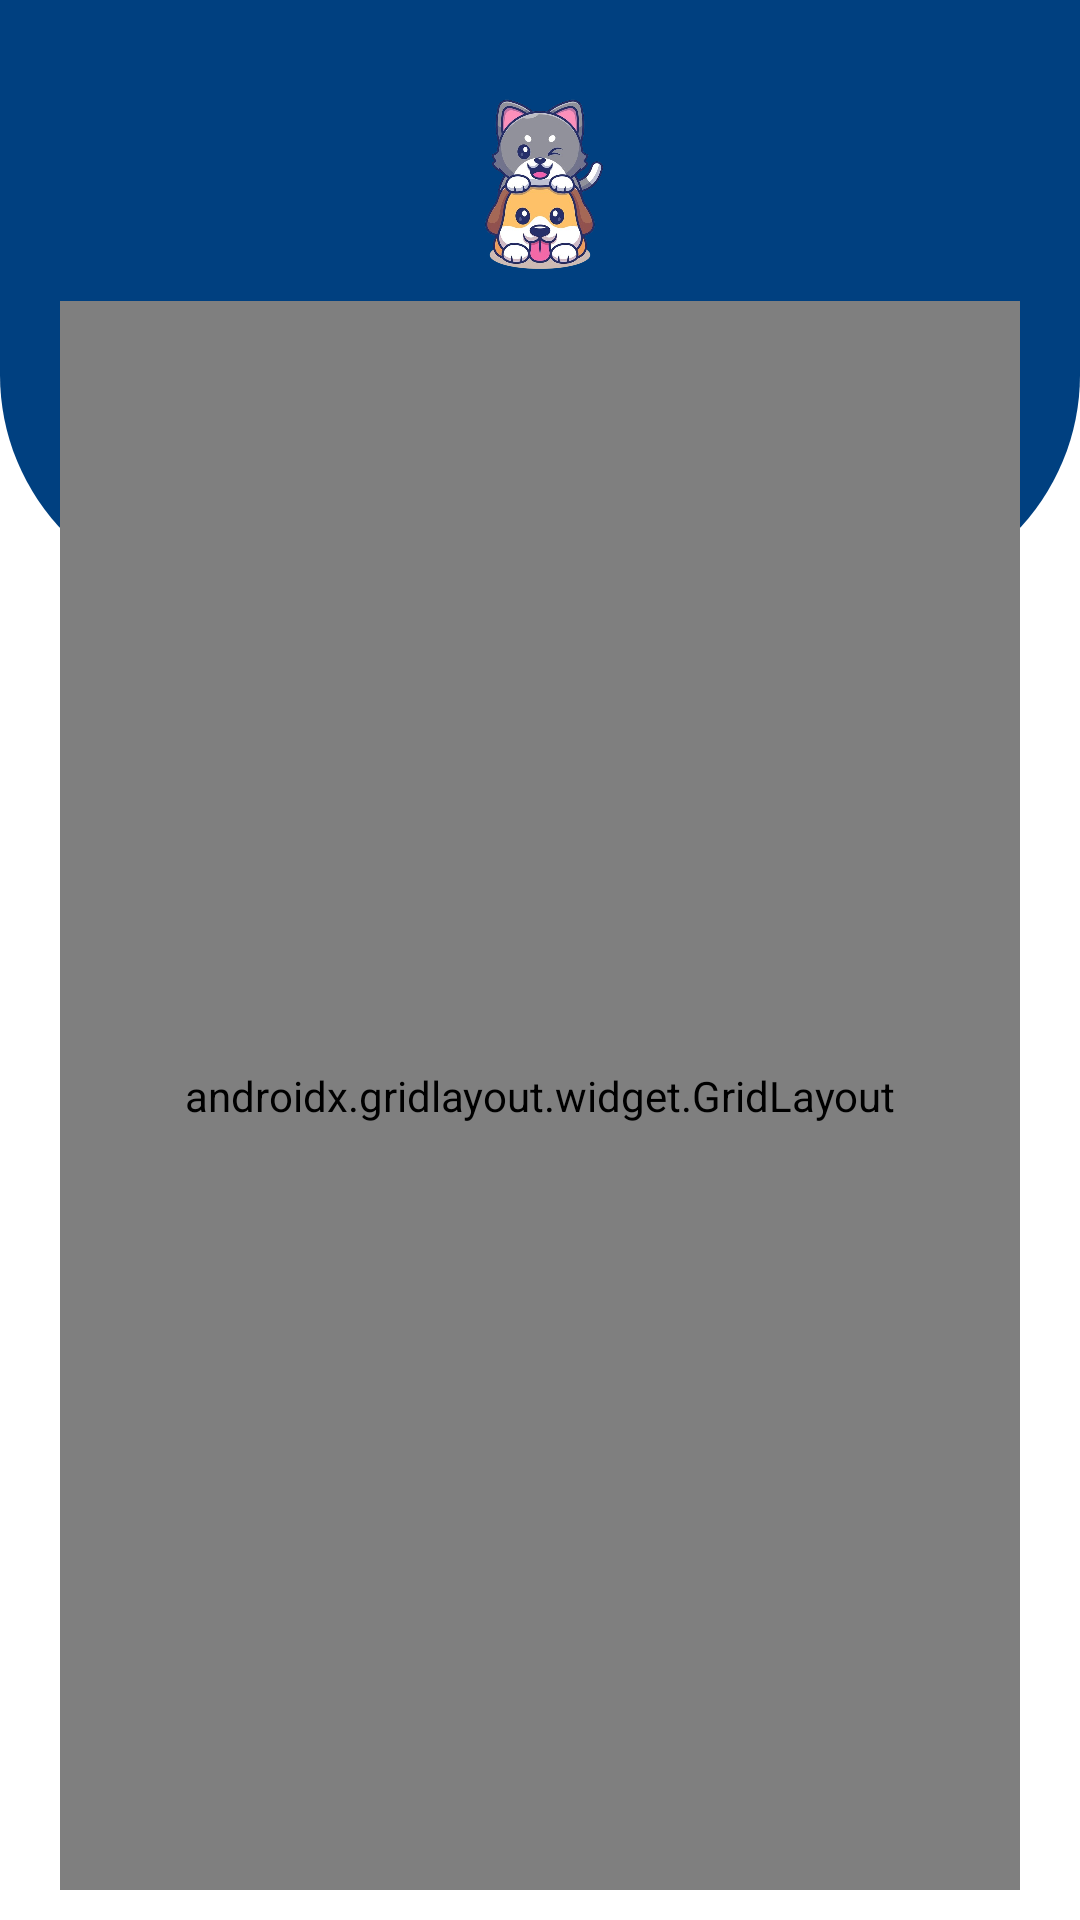

Icons on this 1080x1920 Android screen, each with the point to tap as [x,y]:
lpogofinalnobg: [544,184]
